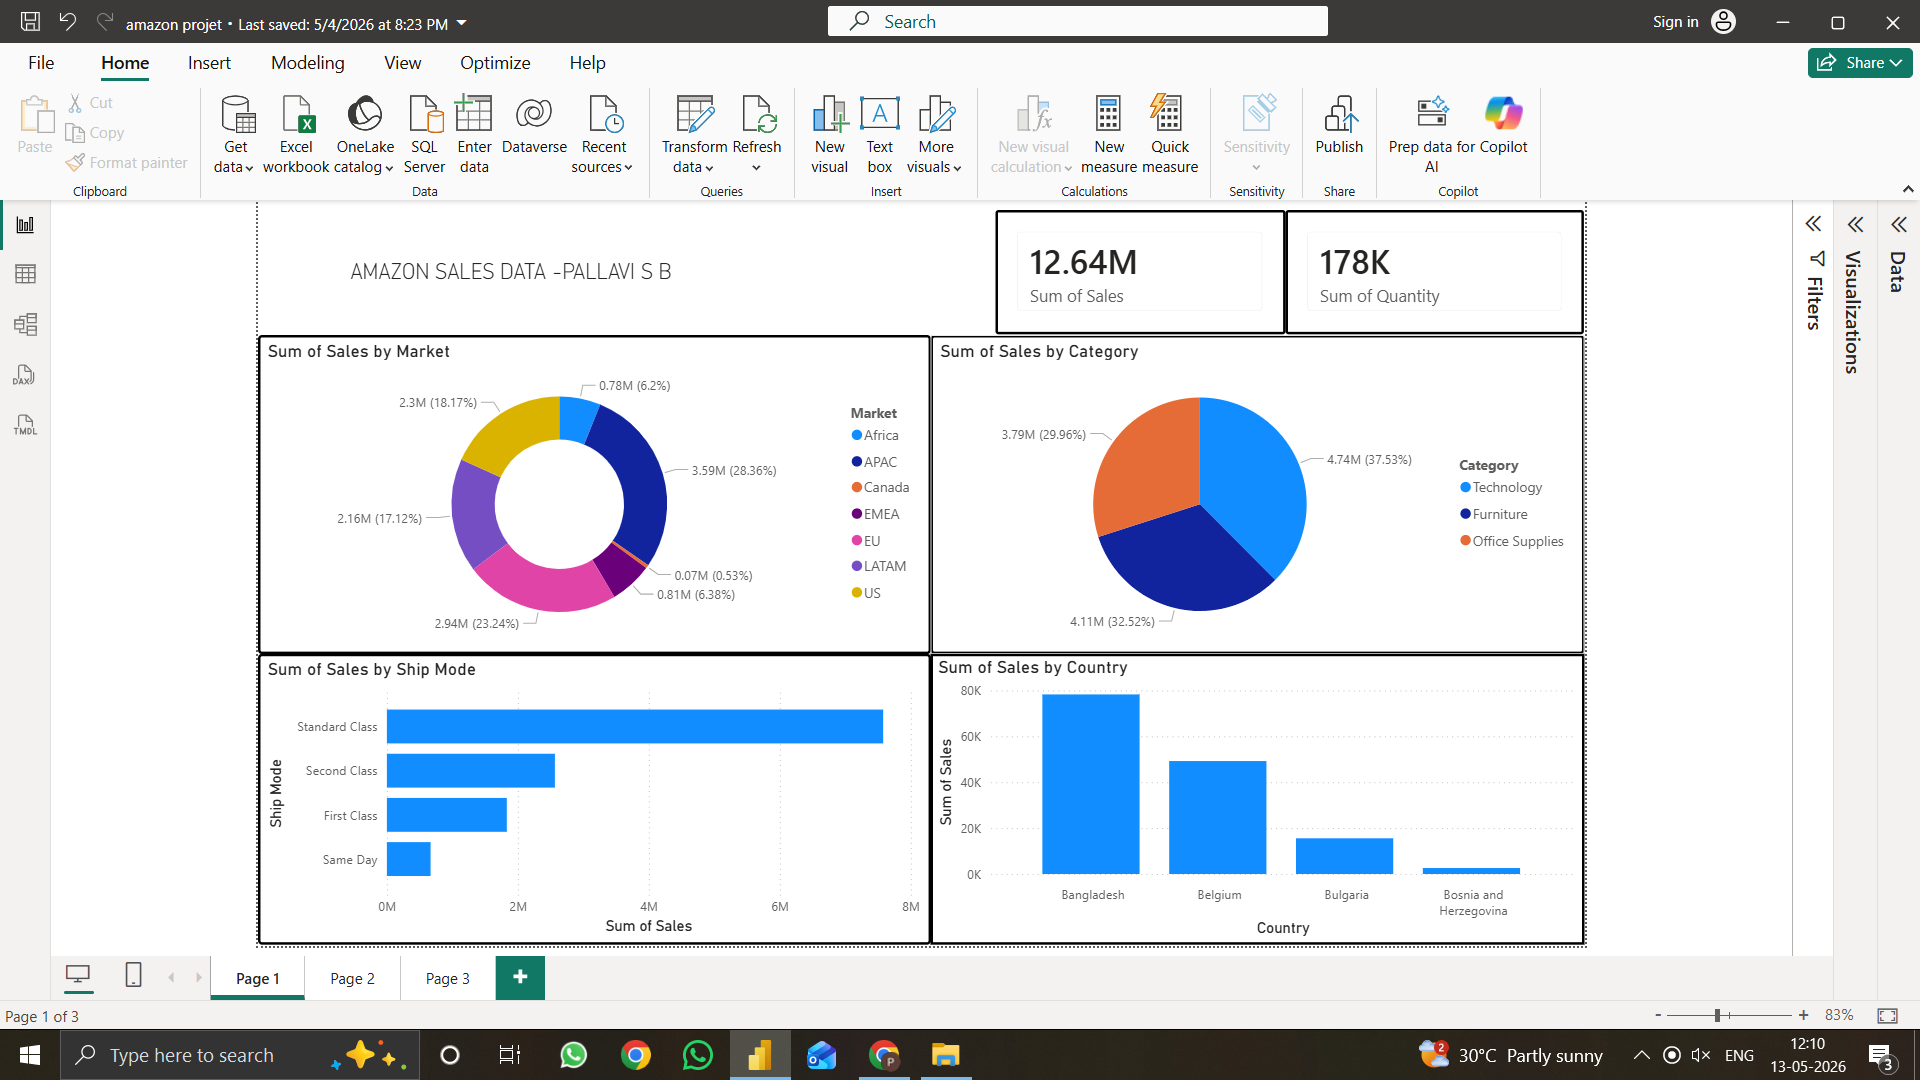

The dashboard page shown, as its layout file describes it:
{"tool":"powerbi","page":{"name":"Page 1","canvas":[1280,720],"ordinal":0},"visuals":[{"type":"donutChart","fields":{"Y":["Sum(Orders.Sales)"],"Series":["Orders.Market"]},"box":[0,129.9,649.4,308.3],"z":0},{"type":"pieChart","fields":{"Category":["Orders.Category"],"Y":["Sum(Orders.Sales)"]},"box":[649.4,129.9,630.9,308.3],"z":1000},{"type":"barChart","fields":{"Category":["Orders.Ship Mode"],"Y":["Sum(Orders.Sales)"]},"box":[0,438.2,649.4,281.2],"z":2000},{"type":"textbox","box":[0,50,443.9,40],"z":3000},{"type":"clusteredColumnChart","fields":{"Category":["Orders.Country"],"Y":["Sum(Orders.Sales)"]},"box":[649.4,438.2,630.9,281.2],"z":4000},{"type":"cardVisual","fields":{"Data":["Sum(Orders.Sales)"]},"box":[712.2,10,279.8,119.9],"z":5000},{"type":"cardVisual","fields":{"Data":["Sum(Orders.Quantity)"]},"box":[992,10,288.3,119.9],"z":6000}]}

Visuals, with their boxes on the page's 1280x720 design canvas (x1, y1, x2, y2). These are canvas units, not pixel positions in the 1920x1080 screenshot, which may show the page scaled, cropped or inside an application window:
donutChart - Sum(Orders.Sales) x Orders.Market: [left=0, top=130, right=649, bottom=438]
pieChart - Orders.Category x Sum(Orders.Sales): [left=649, top=130, right=1280, bottom=438]
barChart - Orders.Ship Mode x Sum(Orders.Sales): [left=0, top=438, right=649, bottom=719]
textbox: [left=0, top=50, right=444, bottom=90]
clusteredColumnChart - Orders.Country x Sum(Orders.Sales): [left=649, top=438, right=1280, bottom=719]
cardVisual - Sum(Orders.Sales): [left=712, top=10, right=992, bottom=130]
cardVisual - Sum(Orders.Quantity): [left=992, top=10, right=1280, bottom=130]
